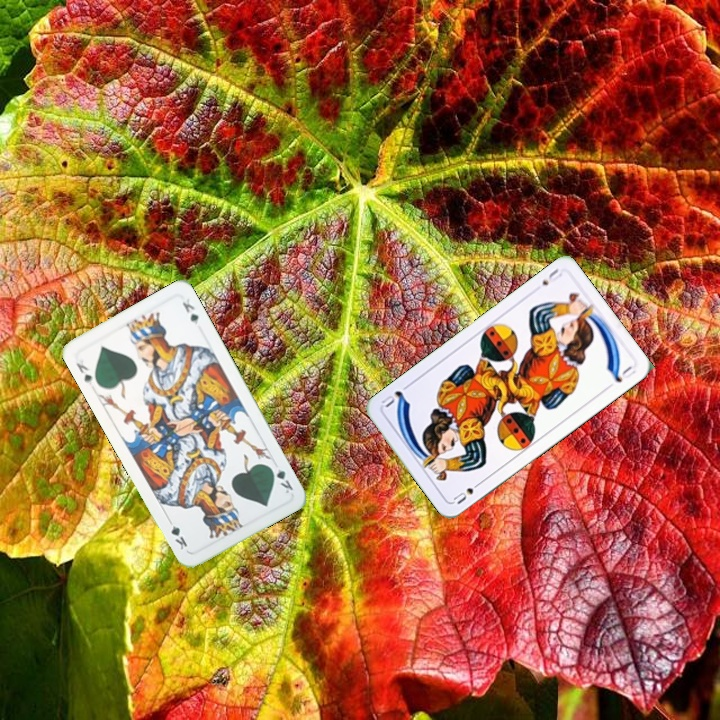GK: (265, 462, 296, 496), (72, 359, 95, 388)
SU: (449, 477, 485, 507), (538, 264, 564, 288)
